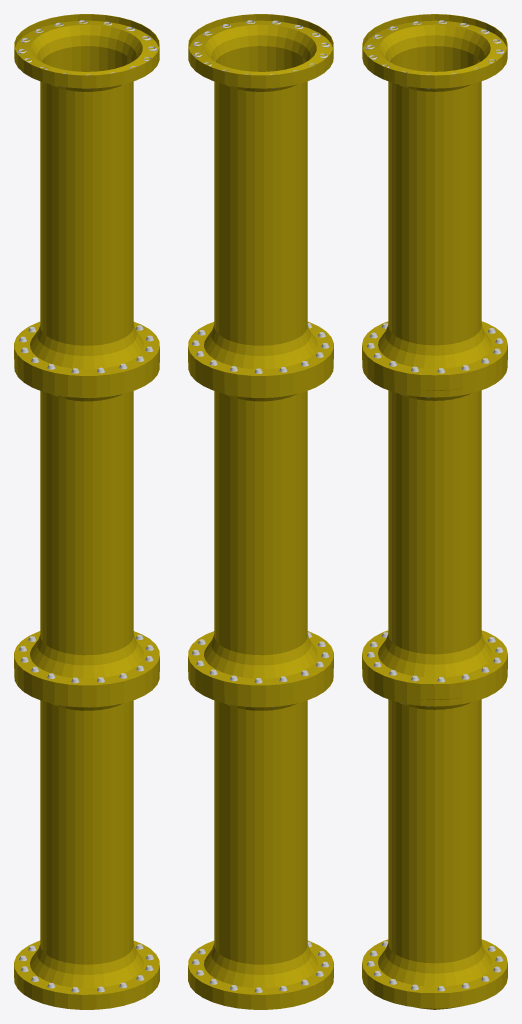
The model's file is Enter_Pipe_Yellow.fbx.
The picture shows the model from 3 angles, left to right: view 1: azimuth 30°, elevation 25°; view 2: azimuth 150°, elevation 25°; view 3: azimuth 270°, elevation 25°; orthographic projection.
Parts seen in each view (by area): view 1: Cylinder.295; view 2: Cylinder.295; view 3: Cylinder.295.
Part boxes in pixels (left/top/right/bottom): Cylinder.295: left=14, top=14, right=159, bottom=1009; Cylinder.295: left=188, top=14, right=333, bottom=1009; Cylinder.295: left=362, top=14, right=507, bottom=1009.
Size of the model in its own units: 168 by 1184 by 168.
